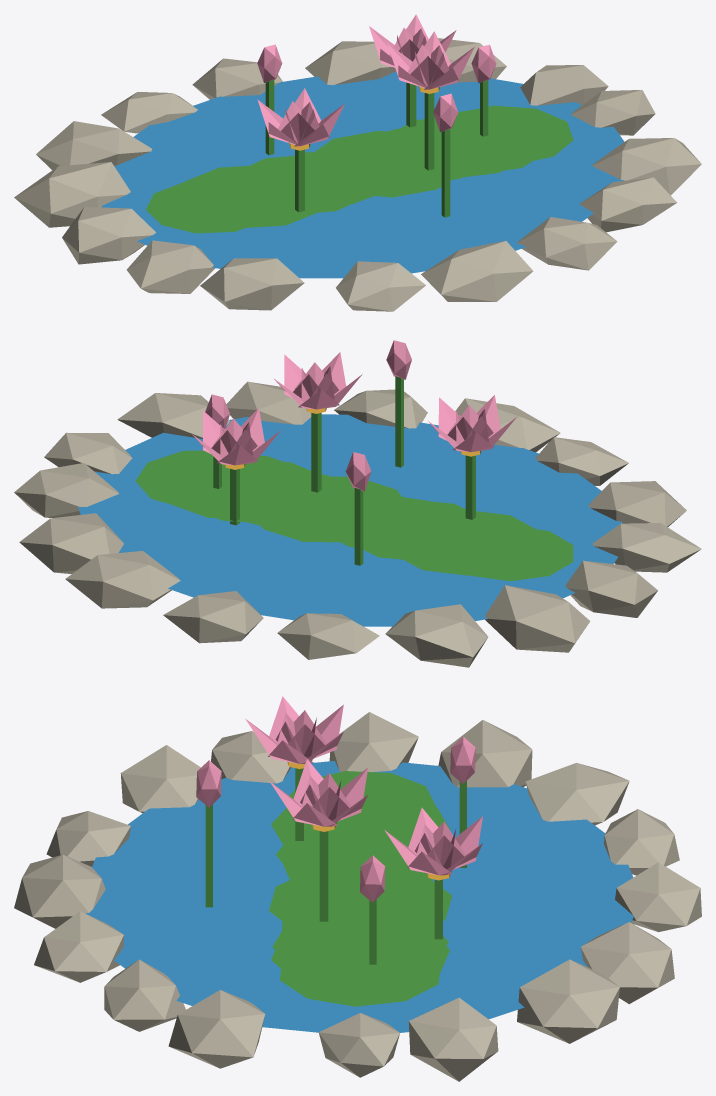
Rendered from viet_lotus_pond.glb.
The picture shows the model from 3 angles, top to bottom: view 1: azimuth 30°, elevation 25°; view 2: azimuth 150°, elevation 25°; view 3: azimuth 270°, elevation 25°; orthographic projection. The views are drawn at different scales.
Visible parts, largest first — view 1: viet_lotus_pond; view 2: viet_lotus_pond; view 3: viet_lotus_pond.
Boxes of the visible parts, x1,y1,x2,y2 form: viet_lotus_pond: (14, 14, 701, 311); viet_lotus_pond: (14, 340, 701, 667); viet_lotus_pond: (14, 696, 701, 1081).
Bounding box in the file's own units: 1 × 0.249 × 0.8698.
